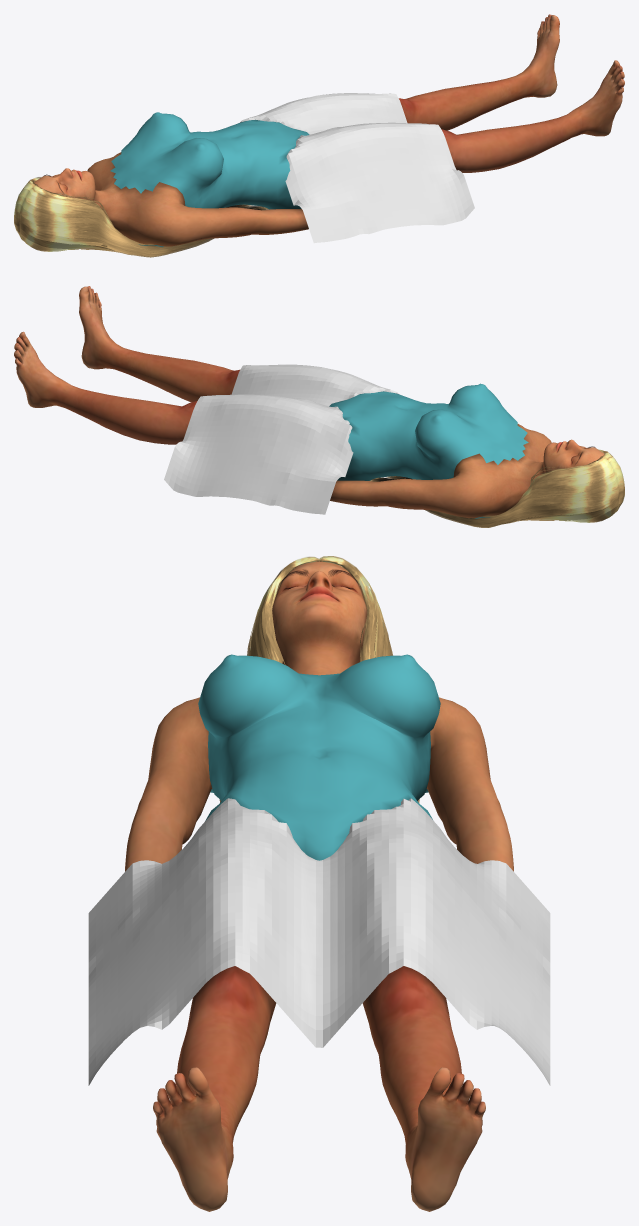
The model's file is kundin_lie_k8.glb.
3 renders of one model, top to bottom at view 1: azimuth 30°, elevation 25°; view 2: azimuth 150°, elevation 25°; view 3: azimuth 270°, elevation 25°, orthographic. The views are drawn at different scales.
Visible parts, largest first — view 1: body, robe, top, hair; view 2: body, robe, top, hair; view 3: robe, body, top, hair.
Part boxes in pixels (x1=…): body: x1=34, y1=14, x2=624, y2=246; robe: x1=240, y1=93, x2=474, y2=243; top: x1=110, y1=112, x2=309, y2=247; hair: x1=14, y1=177, x2=269, y2=257; body: x1=14, y1=286, x2=604, y2=518; robe: x1=164, y1=364, x2=398, y2=514; top: x1=329, y1=383, x2=528, y2=518; hair: x1=370, y1=449, x2=624, y2=527; robe: x1=88, y1=798, x2=550, y2=1085; body: x1=125, y1=561, x2=513, y2=1211; top: x1=198, y1=654, x2=440, y2=860; hair: x1=219, y1=556, x2=419, y2=802.
Size of the model in its own units: 1.77 by 0.3186 by 0.62.
Materials: 5 (4 with a texture image).
